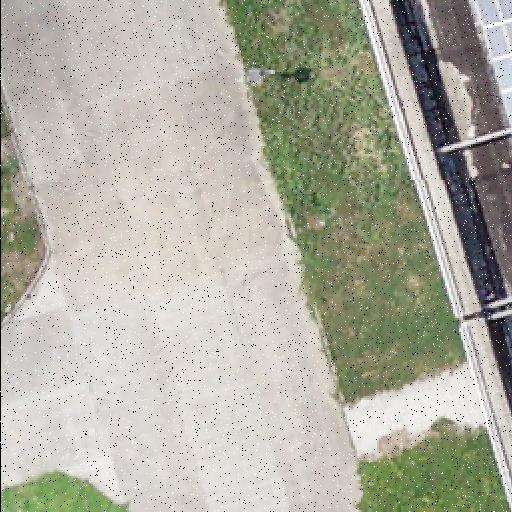solar-panel: (473, 0, 511, 128)
